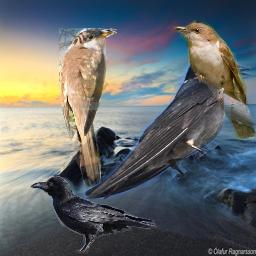Crow: (30, 176, 157, 254)
Cuckoo: (172, 20, 256, 141), (59, 28, 117, 187)
Swallow: (83, 52, 251, 199)
